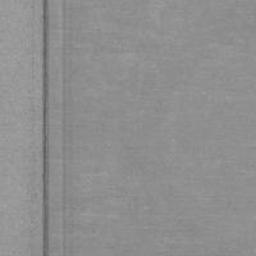Welding line: (41, 0, 51, 255)
